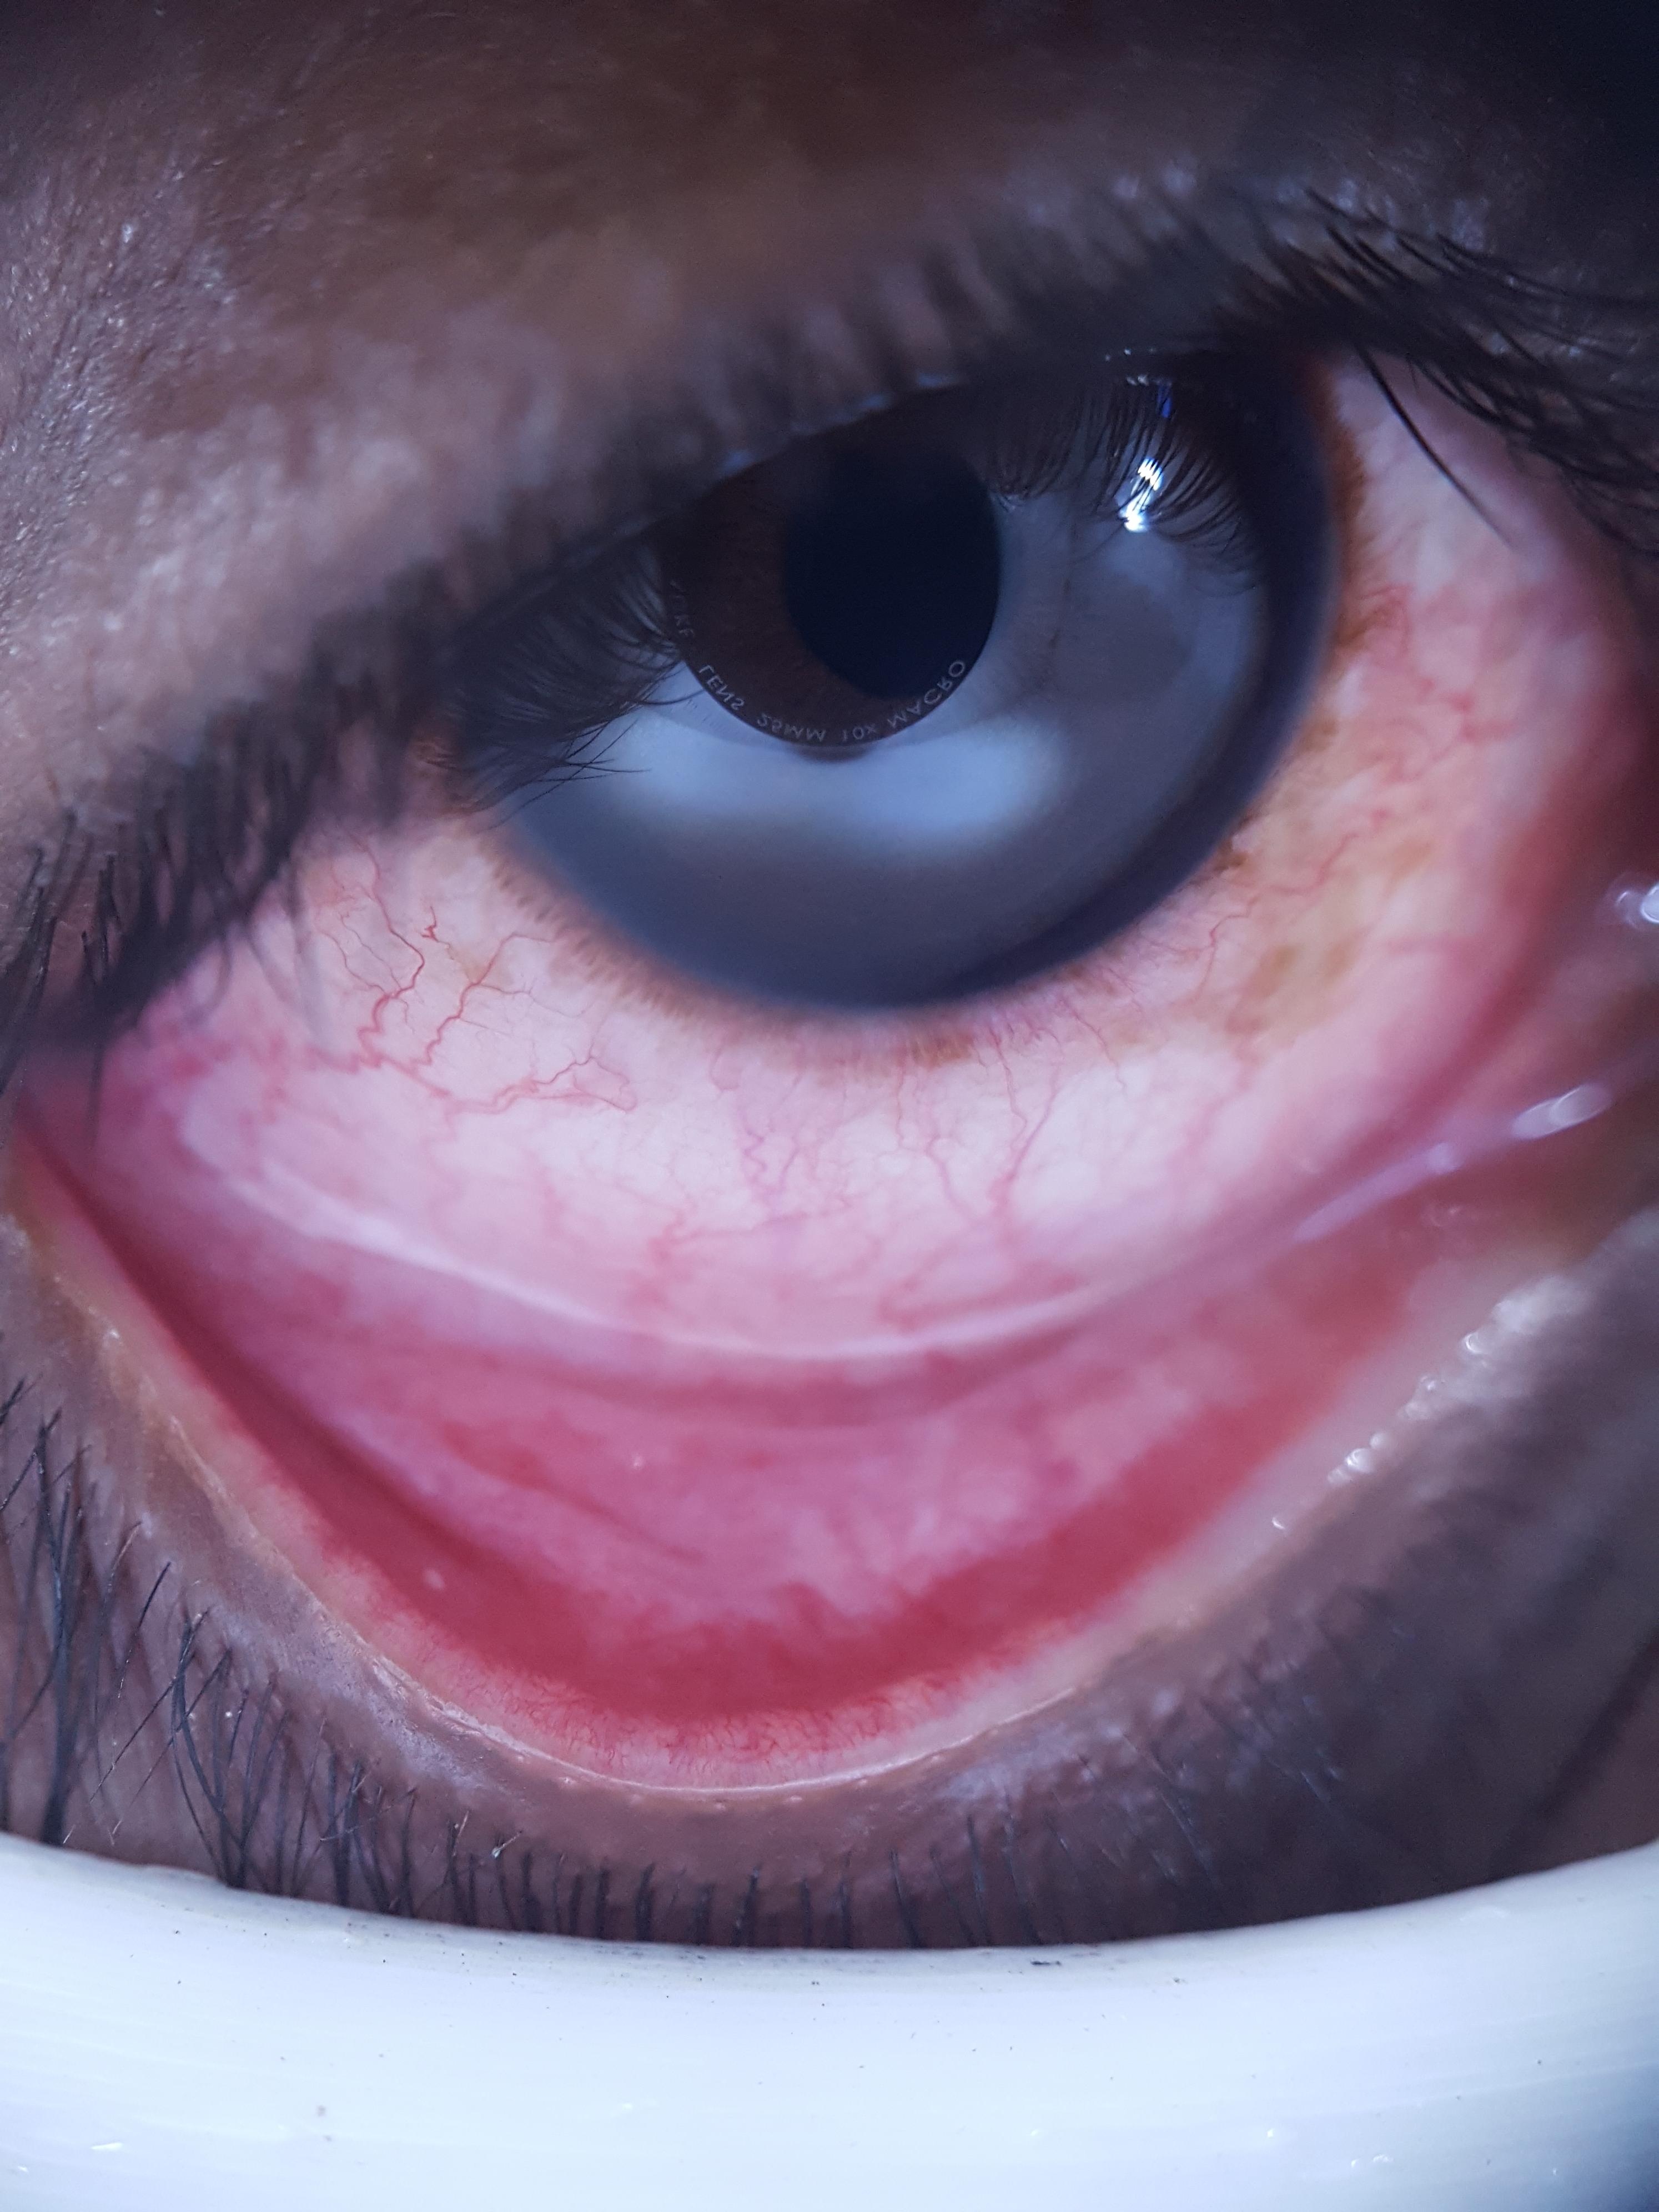forniceal: (64, 1151, 1408, 1635)
forniceal_palpebral: (16, 1108, 1434, 1766)
palpebral: (19, 1118, 1429, 1757)
